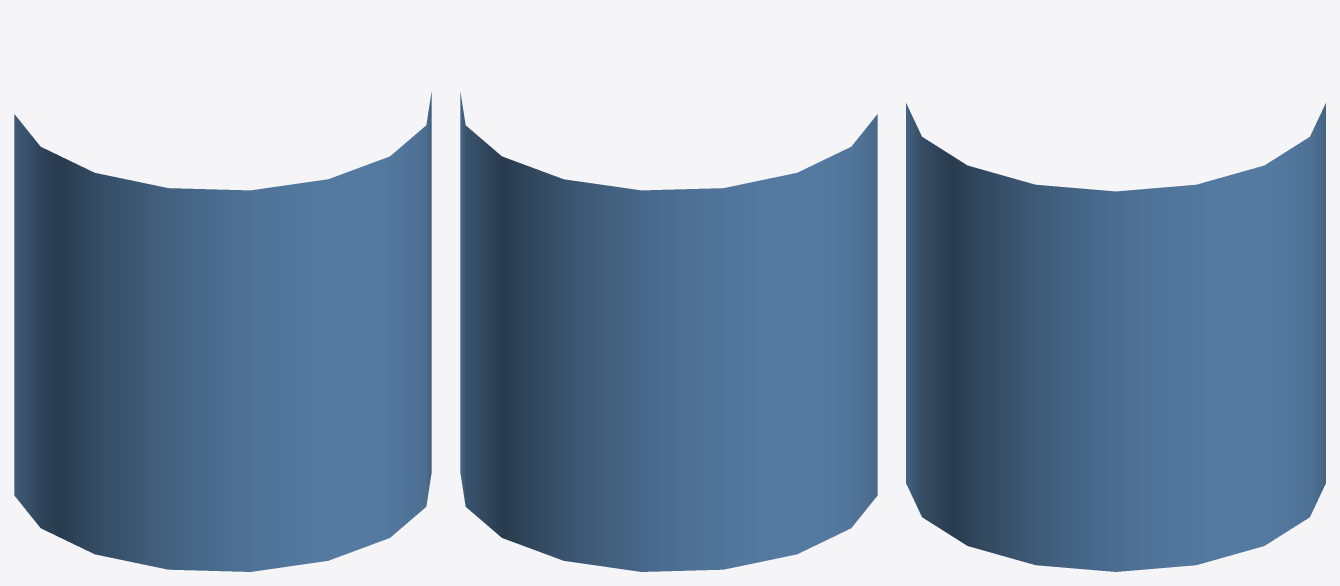
File: barrel.glb
The picture shows the model from 3 angles, left to right: view 1: azimuth 30°, elevation 25°; view 2: azimuth 150°, elevation 25°; view 3: azimuth 270°, elevation 25°; orthographic projection.
Parts seen in each view (by area): view 1: Barrel; view 2: Barrel; view 3: Barrel.
Part boxes in pixels (<box>): Barrel: <box>14,92,431,571</box>; Barrel: <box>460,92,877,571</box>; Barrel: <box>906,103,1325,571</box>.
Size of the model in its own units: 1 by 1 by 1.
